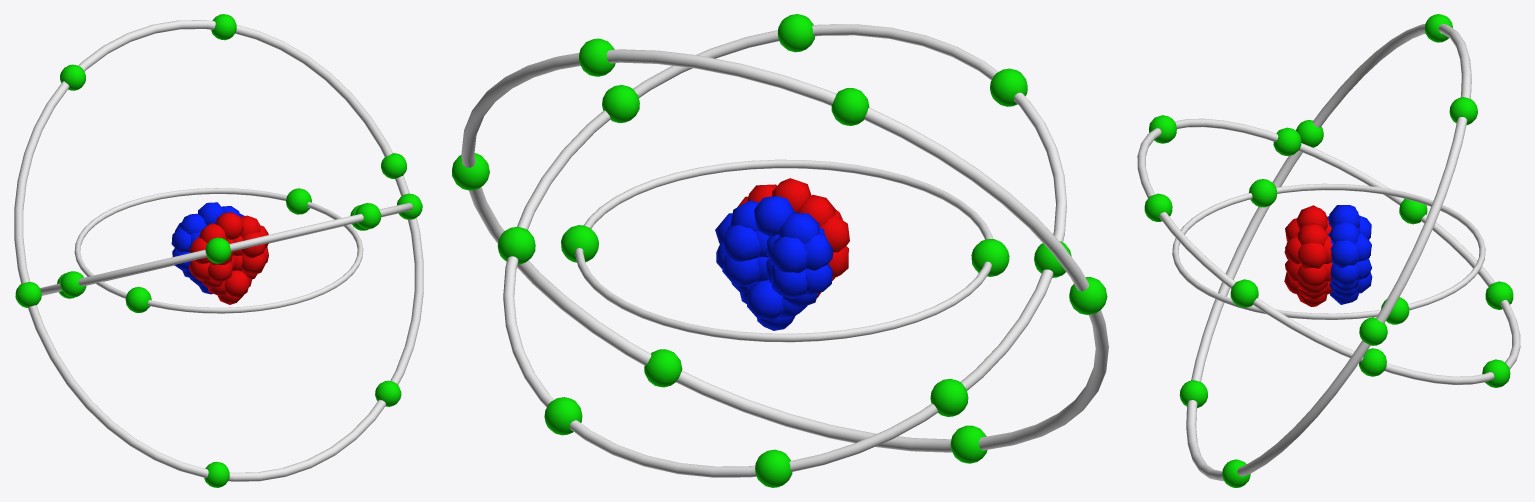
File: 16 Azufre.fbx
3 views of the same model, side by side, from view 1: azimuth 30°, elevation 25°; view 2: azimuth 150°, elevation 25°; view 3: azimuth 270°, elevation 25° (orthographic). The views are drawn at different scales.
Visible parts, largest first — view 1: Orbita.003, Sphere.001, Orbita.001, Orbita.002, Electron.007, Electron.005, Electron.001, Electron.014, Electron, Electron.011, Electron.013, Electron.012 (+4 smaller); view 2: Orbita.003, Orbita.002, Sphere.001, Orbita.001, Electron.004, Electron.015, Electron.003, Electron.002, Electron.009, Electron.011, Electron.010, Electron.008 (+7 smaller); view 3: Orbita.003, Sphere.001, Orbita.002, Orbita.001, Electron.014, Electron, Electron.002, Electron.006, Electron.010, Electron.004, Electron.009, Electron.013 (+8 smaller).
Boxes of the visible parts, box(x1,y1,x2,y2) form: Orbita.003: box(14, 20, 423, 481); Sphere.001: box(171, 202, 268, 304); Orbita.001: box(74, 188, 363, 313); Orbita.002: box(40, 203, 412, 295); Electron.007: box(205, 237, 231, 263); Electron.005: box(15, 281, 41, 307); Electron.001: box(286, 188, 311, 214); Electron.014: box(381, 153, 406, 179); Electron: box(125, 287, 151, 312); Electron.011: box(375, 380, 401, 406); Electron.013: box(211, 14, 236, 40); Electron.012: box(204, 461, 229, 487); Orbita.003: box(461, 49, 1108, 452); Orbita.002: box(503, 24, 1066, 477); Sphere.001: box(715, 178, 849, 330); Orbita.001: box(575, 159, 992, 342); Electron.004: box(755, 449, 792, 487); Electron.015: box(831, 88, 869, 125); Electron.003: box(930, 378, 968, 416); Electron.002: box(602, 85, 639, 123); Electron.009: box(777, 14, 814, 52); Electron.011: box(644, 349, 682, 387); Electron.010: box(497, 226, 535, 264); Electron.008: box(544, 397, 582, 435); Orbita.003: box(1186, 24, 1471, 481); Sphere.001: box(1284, 205, 1372, 306); Orbita.002: box(1137, 118, 1520, 384); Orbita.001: box(1172, 183, 1485, 319); Electron.014: box(1359, 317, 1387, 345); Electron: box(1249, 179, 1276, 207); Electron.002: box(1230, 279, 1258, 307); Electron.006: box(1273, 127, 1301, 155); Electron.010: box(1359, 348, 1386, 376); Electron.004: box(1485, 281, 1513, 309); Electron.009: box(1144, 193, 1172, 221); Electron.013: box(1449, 97, 1477, 125).
Bounding box in the file's own units: 9.09 × 12.41 × 10.26.
